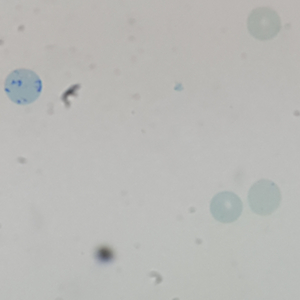aggregate reticulocyte: (2, 66, 44, 106)
erythrocyte: (245, 5, 282, 43), (208, 189, 245, 225)
punctate reticulocyte: (245, 177, 282, 217)
